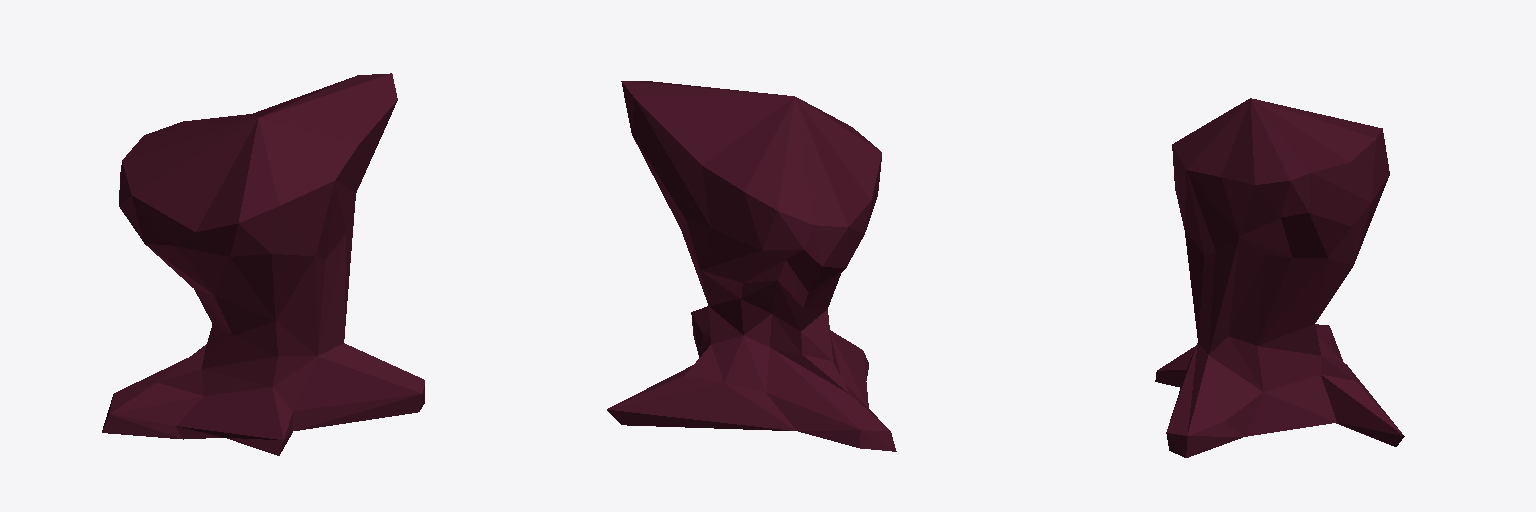
The model's file is Arbre3t.obj.
3 views of the same model, side by side, from view 1: azimuth 30°, elevation 25°; view 2: azimuth 150°, elevation 25°; view 3: azimuth 270°, elevation 25° (orthographic).
Parts seen in each view (by area): view 1: Arbre_3:Arbre3:Group9388 Arbre_3:group group; view 2: Arbre_3:Arbre3:Group9388 Arbre_3:group group; view 3: Arbre_3:Arbre3:Group9388 Arbre_3:group group.
Boxes of the visible parts, <box> form: Arbre_3:Arbre3:Group9388 Arbre_3:group group: <box>102,73,424,455</box>; Arbre_3:Arbre3:Group9388 Arbre_3:group group: <box>607,81,896,451</box>; Arbre_3:Arbre3:Group9388 Arbre_3:group group: <box>1155,98,1404,457</box>.
Bounding box in the file's own units: 3.55 × 3.64 × 2.71.